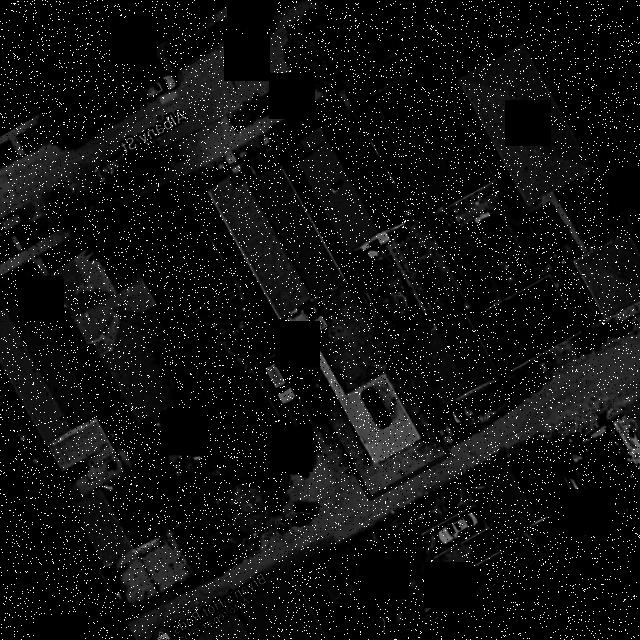Driveway: (285, 309, 432, 487), (230, 164, 241, 174)
Extra Driveway: (222, 150, 236, 164)
Extra Lawn: (186, 155, 227, 184), (231, 133, 269, 159)
Extra Sidewalk: (179, 120, 263, 175), (172, 116, 234, 159)
House: (206, 166, 345, 319)
